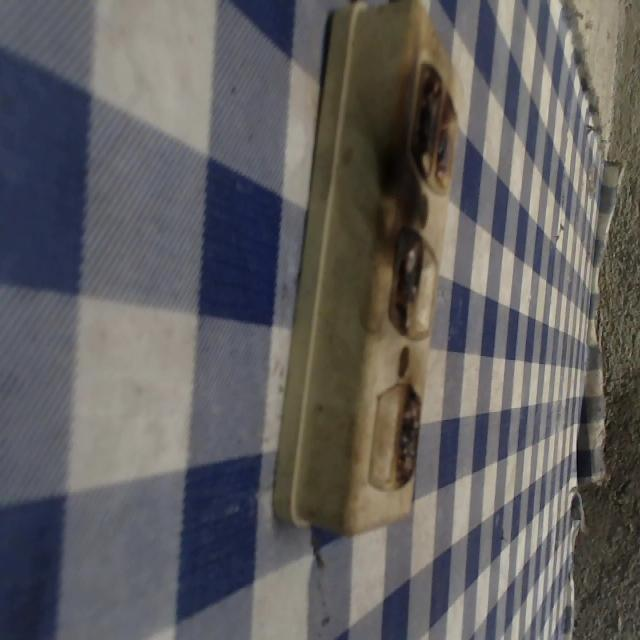-: (405, 54, 458, 198), (388, 218, 423, 326), (395, 379, 419, 485)
